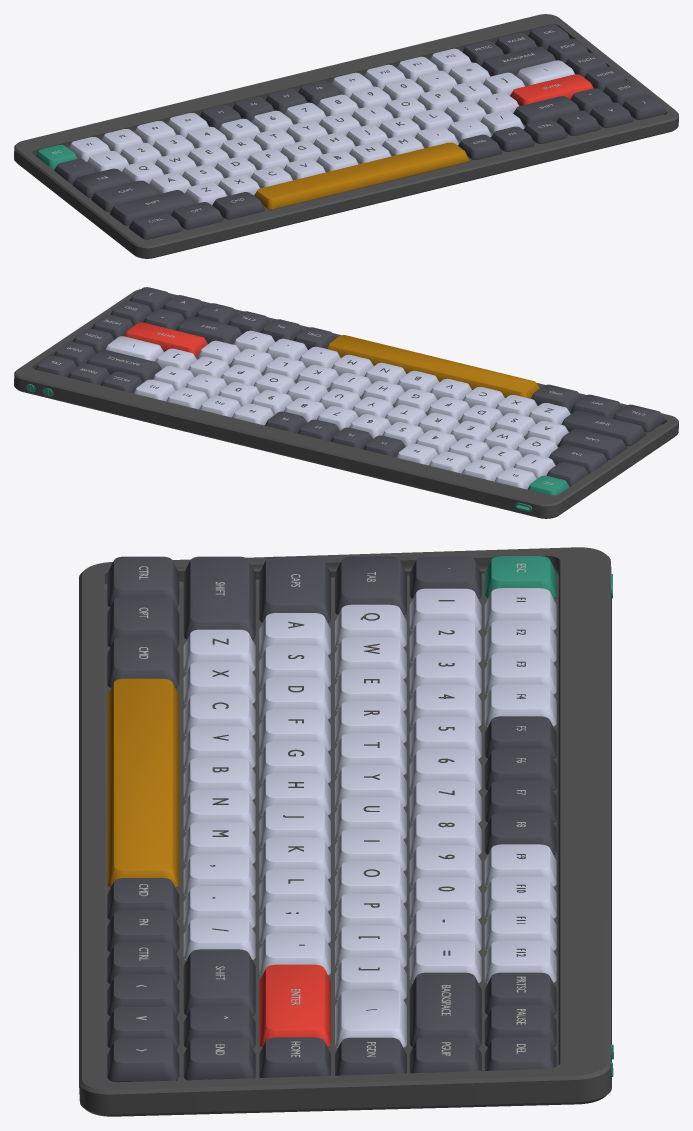
The model's file is air75-1.glb.
3 views of the same model, one above another, from view 1: azimuth 30°, elevation 25°; view 2: azimuth 150°, elevation 25°; view 3: azimuth 270°, elevation 25° (orthographic). The views are drawn at different scales.
Visible parts, largest first — view 1: Board, 4-Space, 1-ShiftLeft, 13-Enter, 13-Backspace, 12-ShiftRight, 1-CapsLock, 1-ControlLeft, 3-AltLeft, 2-MetaLeft, 0-Tab, 13-Backslash (+73 smaller); view 2: Board, 4-Space, 1-ShiftLeft, 13-Enter, 13-Backspace, 1-CapsLock, 12-ShiftRight, 0-Tab, 13-Backslash, 1-ControlLeft, 3-AltLeft, 2-MetaLeft (+73 smaller); view 3: Board, 4-Space, 1-ShiftLeft, 13-Enter, 13-Backspace, 12-ShiftRight, 1-CapsLock, 13-Backslash, 0-Tab, 3-AltLeft, 10-ArrowRight, 1-ControlLeft (+73 smaller).
Boxes of the visible parts, x1=… form: Board: x1=14, y1=14, x2=678, y2=258; 4-Space: x1=254, y1=142, x2=469, y2=209; 1-ShiftLeft: x1=109, y1=190, x2=194, y2=225; 13-Enter: x1=510, y1=74, x2=593, y2=105; 13-Backspace: x1=481, y1=46, x2=555, y2=76; 12-ShiftRight: x1=513, y1=96, x2=579, y2=125; 1-CapsLock: x1=91, y1=180, x2=157, y2=211; 1-ControlLeft: x1=128, y1=212, x2=182, y2=239; 3-AltLeft: x1=212, y1=192, x2=264, y2=219; 2-MetaLeft: x1=171, y1=202, x2=223, y2=229; 0-Tab: x1=72, y1=168, x2=131, y2=197; 13-Backslash: x1=516, y1=60, x2=574, y2=85; Board: x1=14, y1=289, x2=678, y2=518; 4-Space: x1=326, y1=335, x2=539, y2=398; 1-ShiftLeft: x1=561, y1=410, x2=646, y2=446; 13-Enter: x1=124, y1=322, x2=207, y2=356; 13-Backspace: x1=87, y1=349, x2=161, y2=382; 1-CapsLock: x1=558, y1=428, x2=627, y2=459; 12-ShiftRight: x1=176, y1=316, x2=242, y2=344; 0-Tab: x1=549, y1=444, x2=607, y2=473; 13-Backslash: x1=105, y1=336, x2=163, y2=361; 1-ControlLeft: x1=613, y1=404, x2=665, y2=432; 3-AltLeft: x1=531, y1=384, x2=581, y2=410; 2-MetaLeft: x1=570, y1=394, x2=622, y2=418; Board: x1=79, y1=547, x2=611, y2=1116; 4-Space: x1=107, y1=678, x2=179, y2=888; 1-ShiftLeft: x1=183, y1=556, x2=255, y2=639; 13-Enter: x1=259, y1=964, x2=330, y2=1047; 13-Backspace: x1=409, y1=972, x2=481, y2=1047; 12-ShiftRight: x1=183, y1=949, x2=255, y2=1015; 1-CapsLock: x1=259, y1=556, x2=330, y2=622; 13-Backslash: x1=335, y1=989, x2=406, y2=1047; 0-Tab: x1=335, y1=556, x2=406, y2=614; 3-AltLeft: x1=107, y1=637, x2=179, y2=687; 10-ArrowRight: x1=107, y1=1038, x2=179, y2=1082; 1-ControlLeft: x1=107, y1=556, x2=179, y2=607.
Bounding box in the file's own units: 3.23 × 0.1313 × 1.38.
